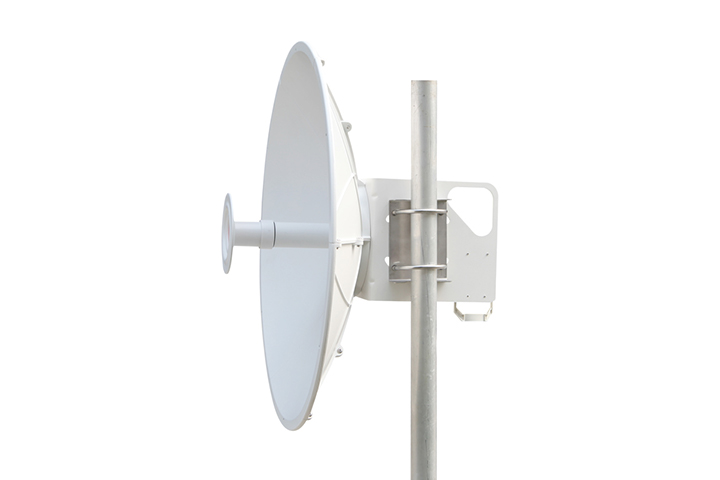ba: (222, 30, 380, 440)
